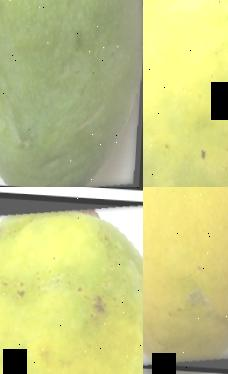PartiallyRipe: (0, 195, 143, 374), (143, 0, 228, 187)
Ripe: (143, 187, 228, 371)
Unripe: (0, 0, 143, 187)
